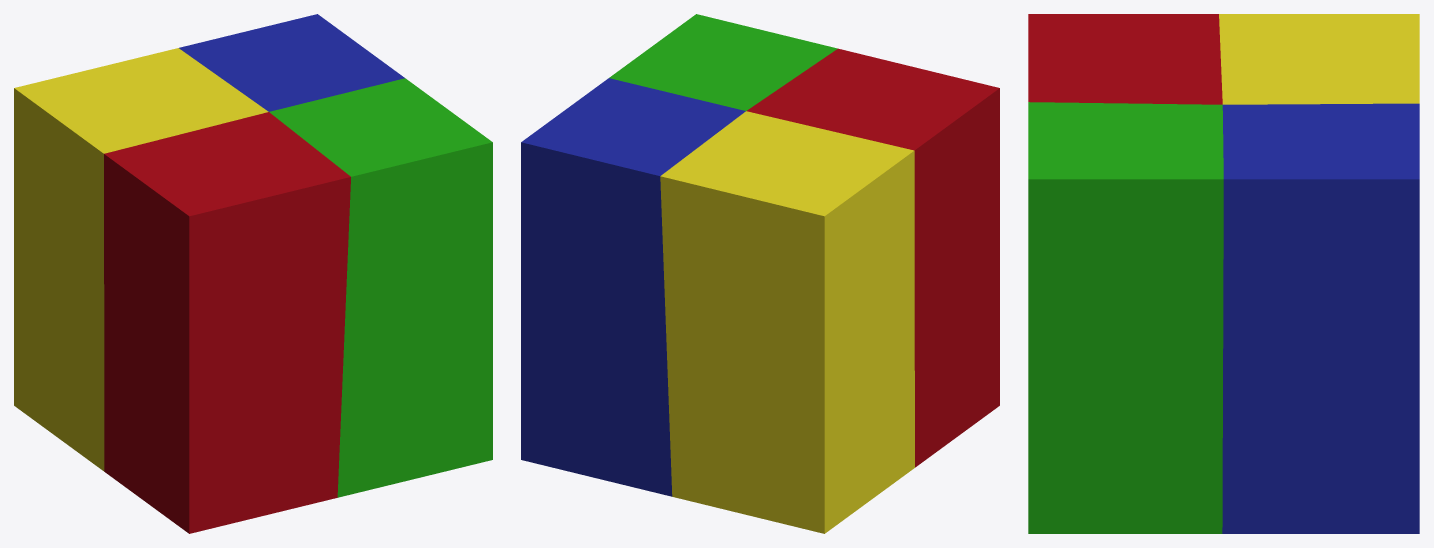
The model's file is cubeycolors.fbx.
3 views of the same model, side by side, from view 1: azimuth 30°, elevation 25°; view 2: azimuth 150°, elevation 25°; view 3: azimuth 270°, elevation 25° (orthographic). The views are drawn at different scales.
Visible parts, largest first — view 1: Cube; view 2: Cube; view 3: Cube.
Part boxes in pixels (bbox=[...]): Cube: bbox=[14, 14, 492, 533]; Cube: bbox=[521, 14, 999, 533]; Cube: bbox=[1028, 14, 1419, 533].
Size of the model in its own units: 200 by 200 by 200.
